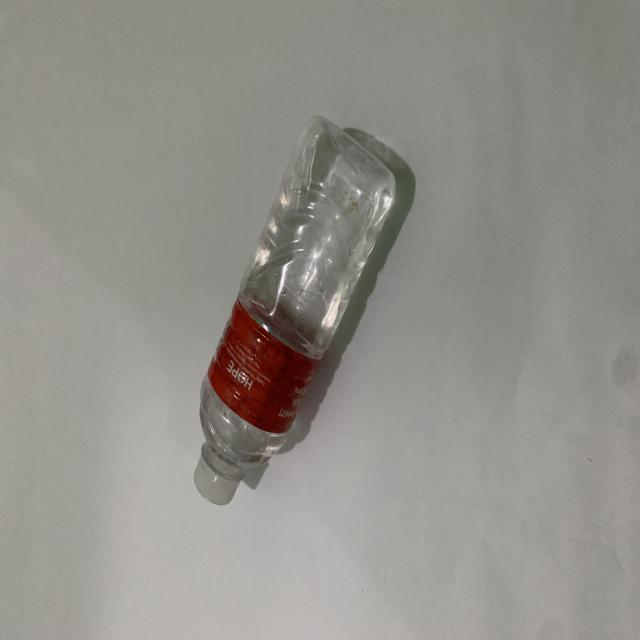bottle: (182, 109, 404, 517)
